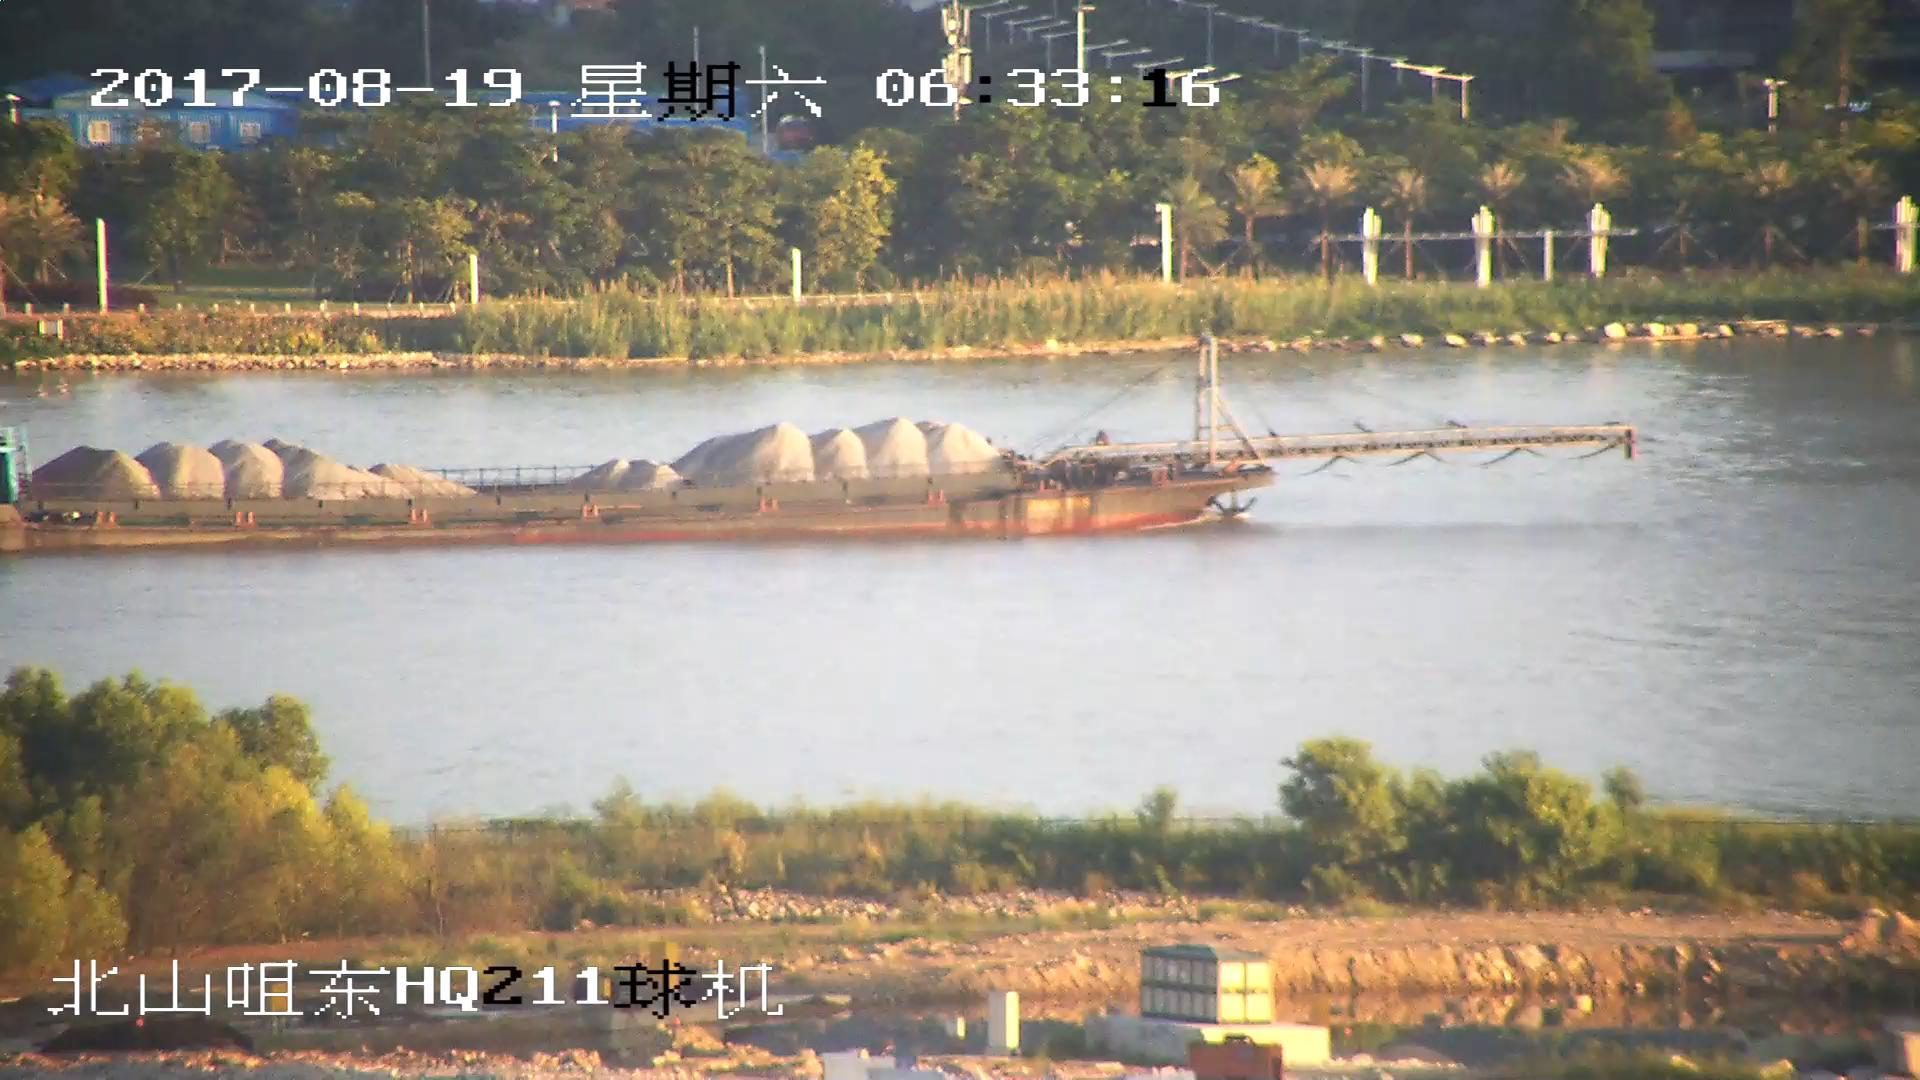Ship: (3, 334, 1640, 555)
